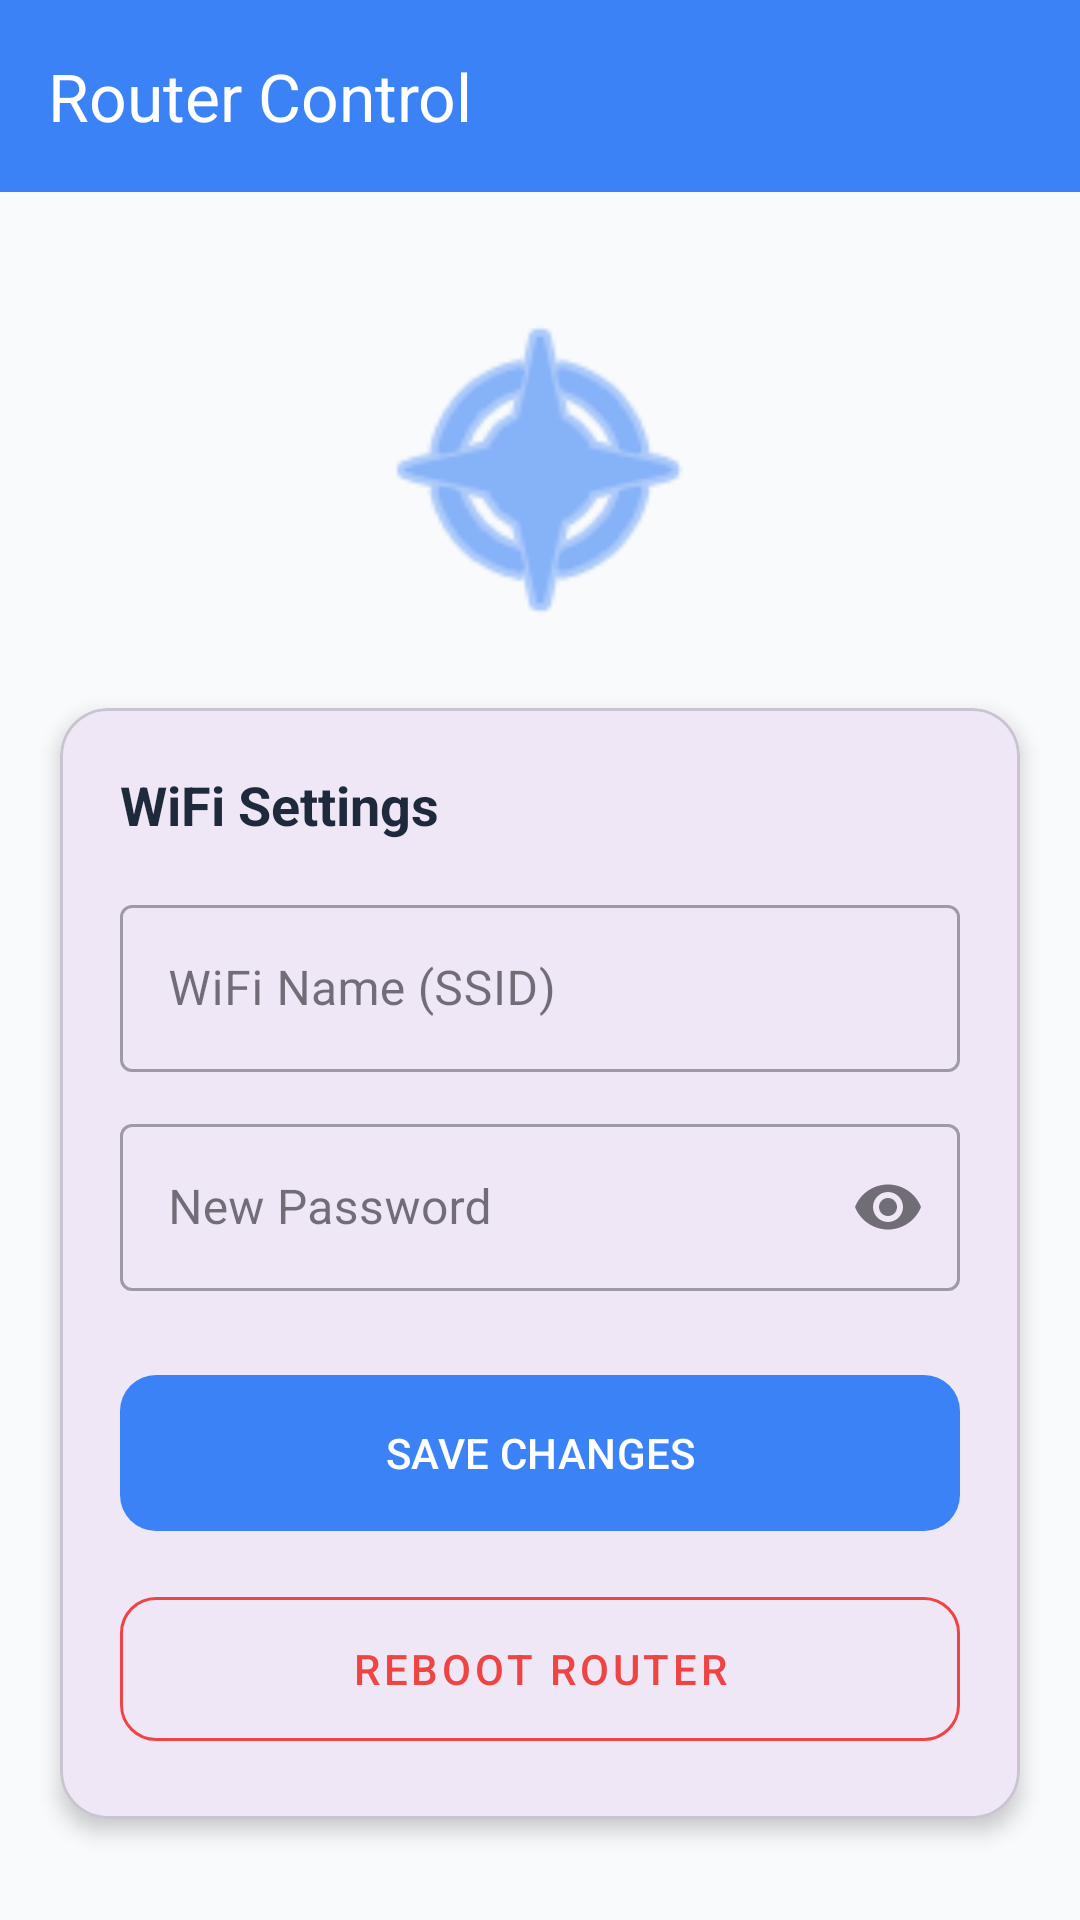

Screen size 1080×1920. Icon name, then its center in pixels as (x,y):
compass: (539,470)
